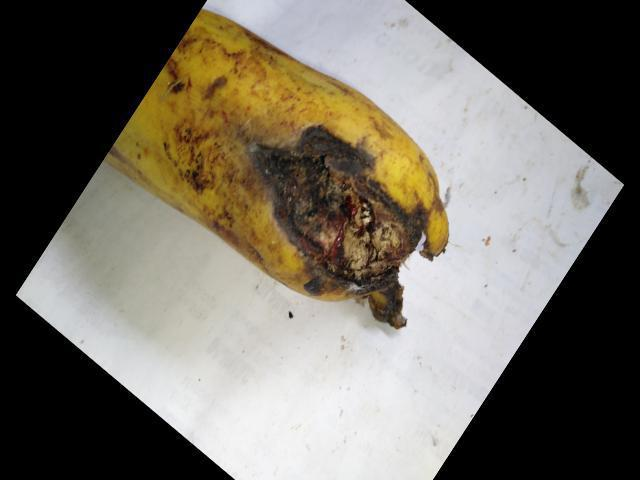rotten: (220, 117, 472, 356)
